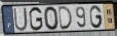9: (75, 6, 87, 29)
D: (58, 5, 74, 31)
G: (28, 6, 44, 32), (89, 5, 104, 30)
O: (43, 6, 60, 32)
U: (13, 6, 29, 33)
